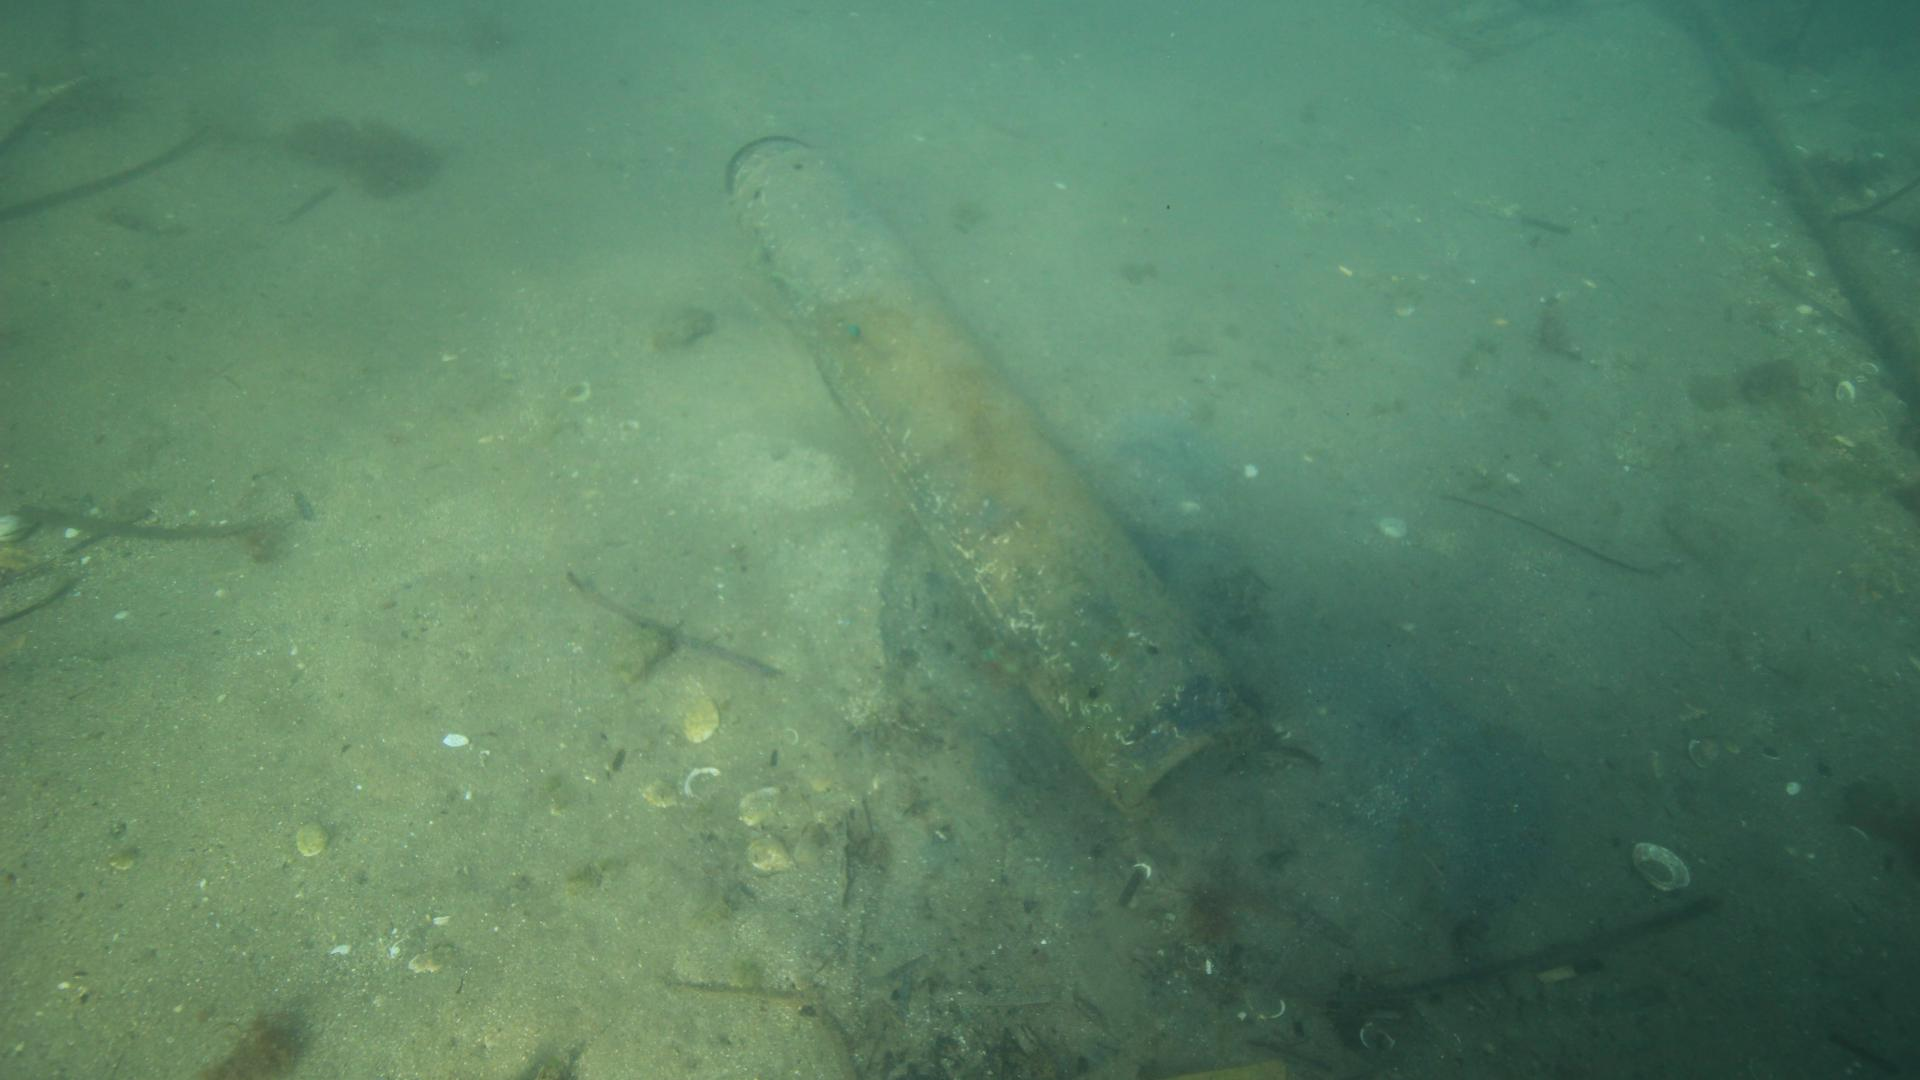eel fish trap: (720, 131, 1258, 820)
